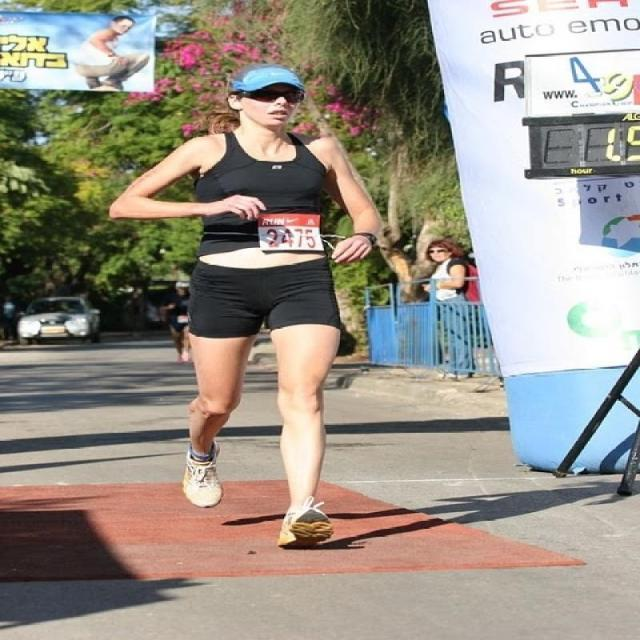dorsal: (252, 212, 329, 254)
